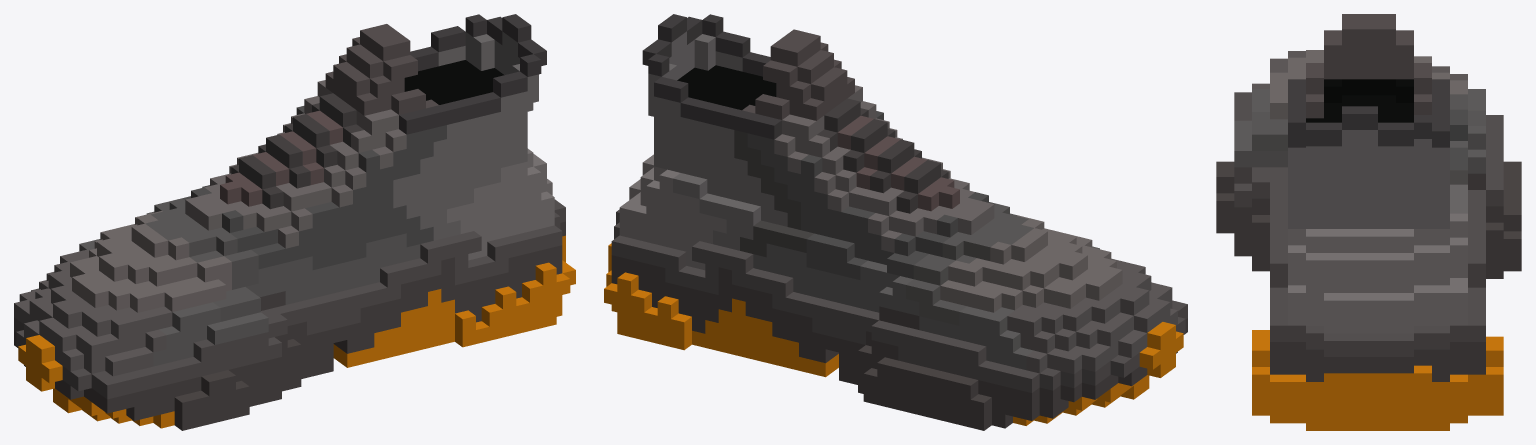
Rendered from Dirty Legend.fbx.
The picture shows the model from 3 angles, left to right: view 1: azimuth 30°, elevation 25°; view 2: azimuth 150°, elevation 25°; view 3: azimuth 270°, elevation 25°; orthographic projection. The views are drawn at different scales.
Visible parts, largest first — view 1: Untitled; view 2: Untitled; view 3: Untitled.
Part boxes in pixels (left/top/right/bottom): Untitled: left=14, top=14, right=575, bottom=430; Untitled: left=604, top=14, right=1187, bottom=430; Untitled: left=1216, top=14, right=1521, bottom=430.
Size of the model in its own units: 390 by 200 by 170.
